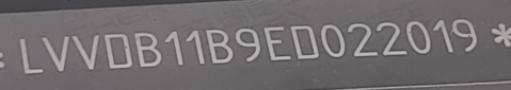letter: (202, 26, 235, 68), (287, 22, 322, 61), (260, 22, 293, 63), (374, 20, 409, 58), (41, 33, 71, 77), (344, 21, 378, 59), (133, 29, 165, 69), (69, 31, 101, 71), (102, 31, 134, 70), (18, 32, 45, 78), (231, 26, 262, 66), (319, 21, 347, 59), (451, 17, 480, 53), (403, 20, 431, 56), (182, 28, 207, 68), (431, 17, 454, 58), (162, 27, 185, 68)
